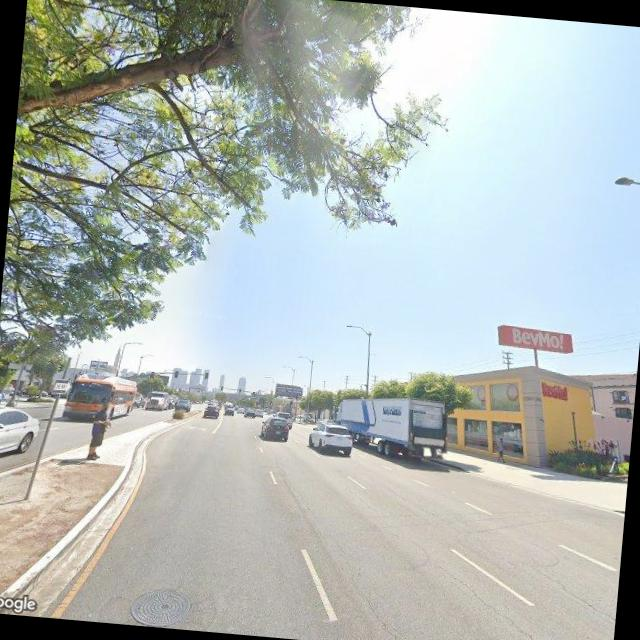crack: (428, 564, 577, 640), (353, 588, 413, 640)
